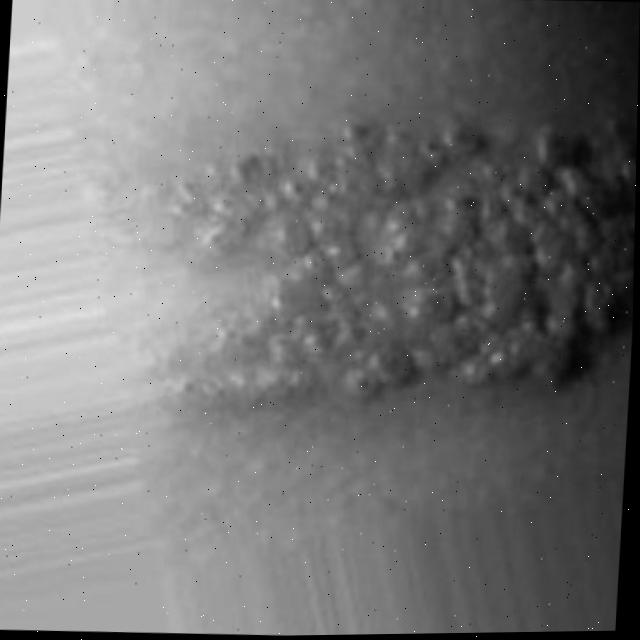Shingles: (140, 106, 633, 429)
